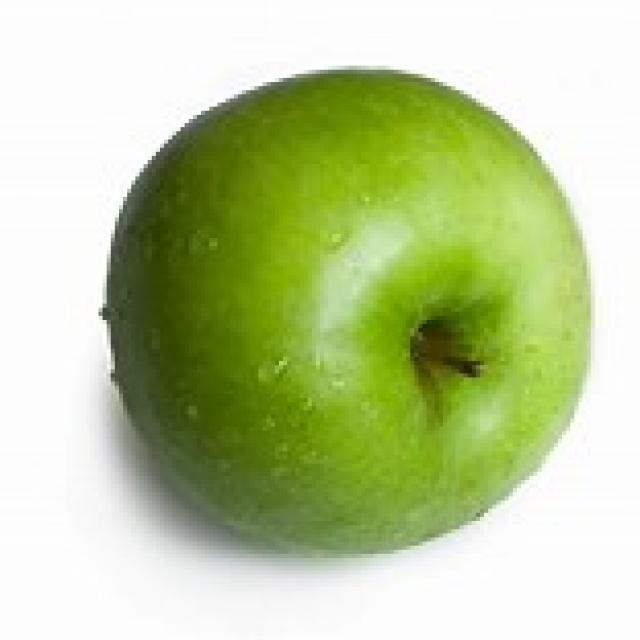Apple: (99, 64, 602, 568)
